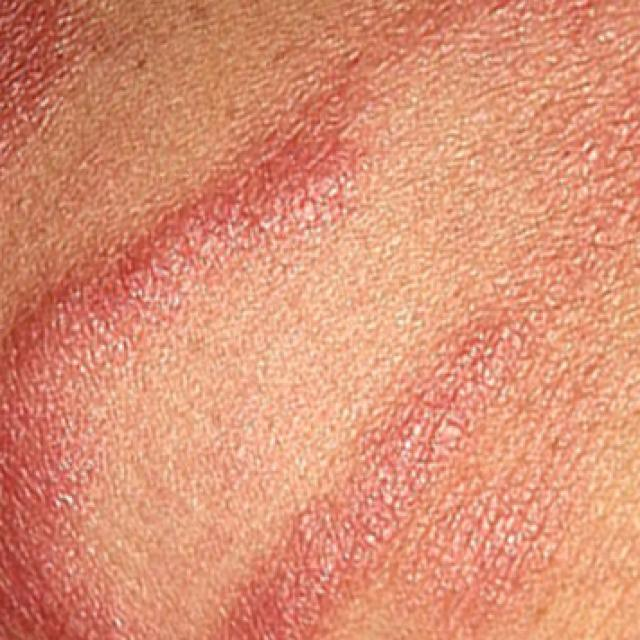Leprosy: (223, 284, 640, 640), (0, 180, 219, 640), (224, 0, 435, 271), (0, 0, 104, 158)
